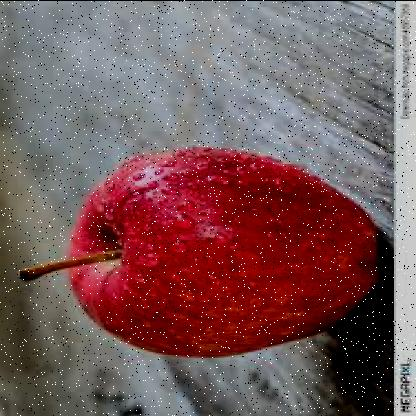apple: (67, 158, 370, 350)
